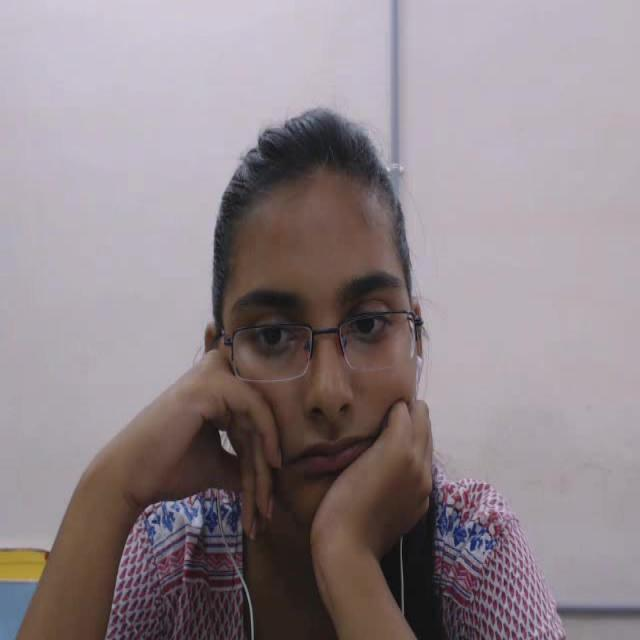Bored: (186, 106, 474, 516)
